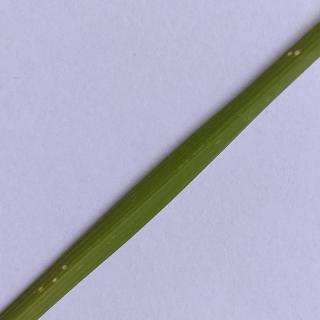Blast: (17, 259, 74, 306), (285, 44, 304, 64)
